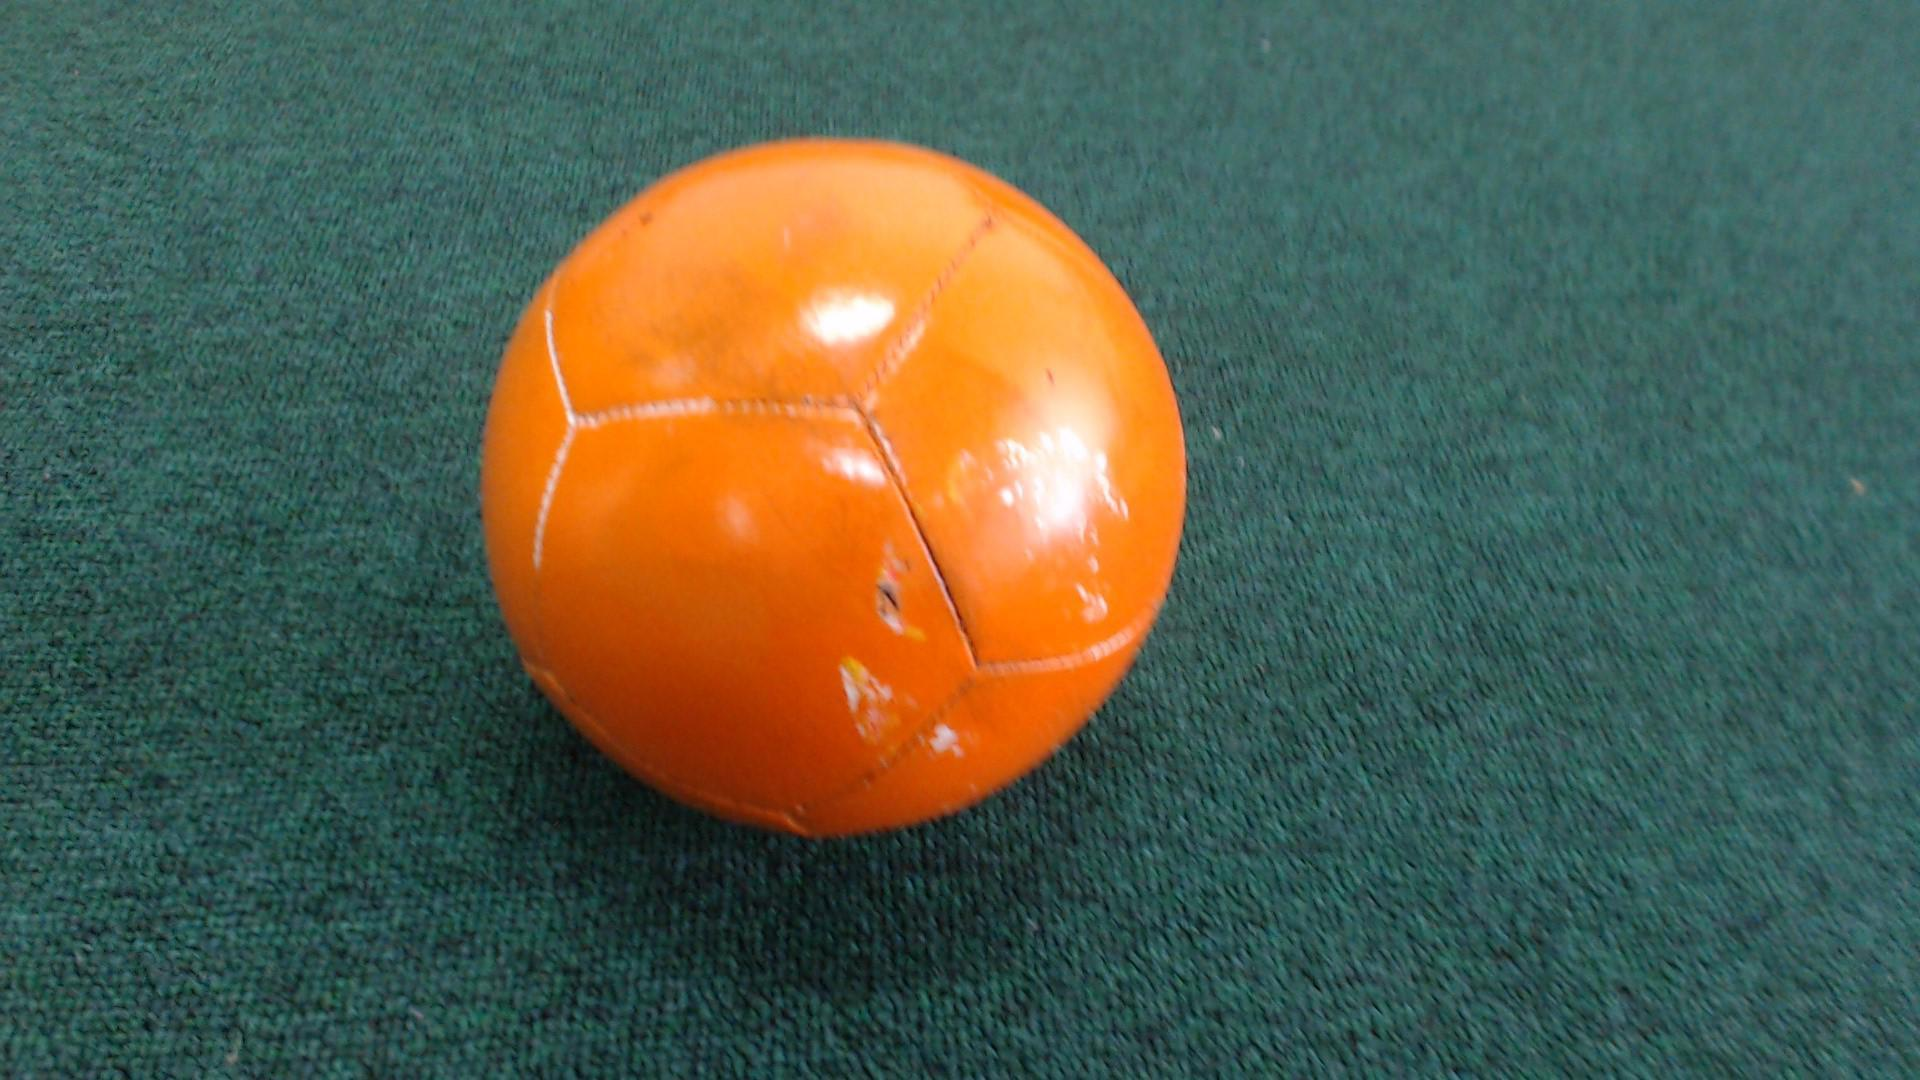bola: (460, 120, 1203, 864)
